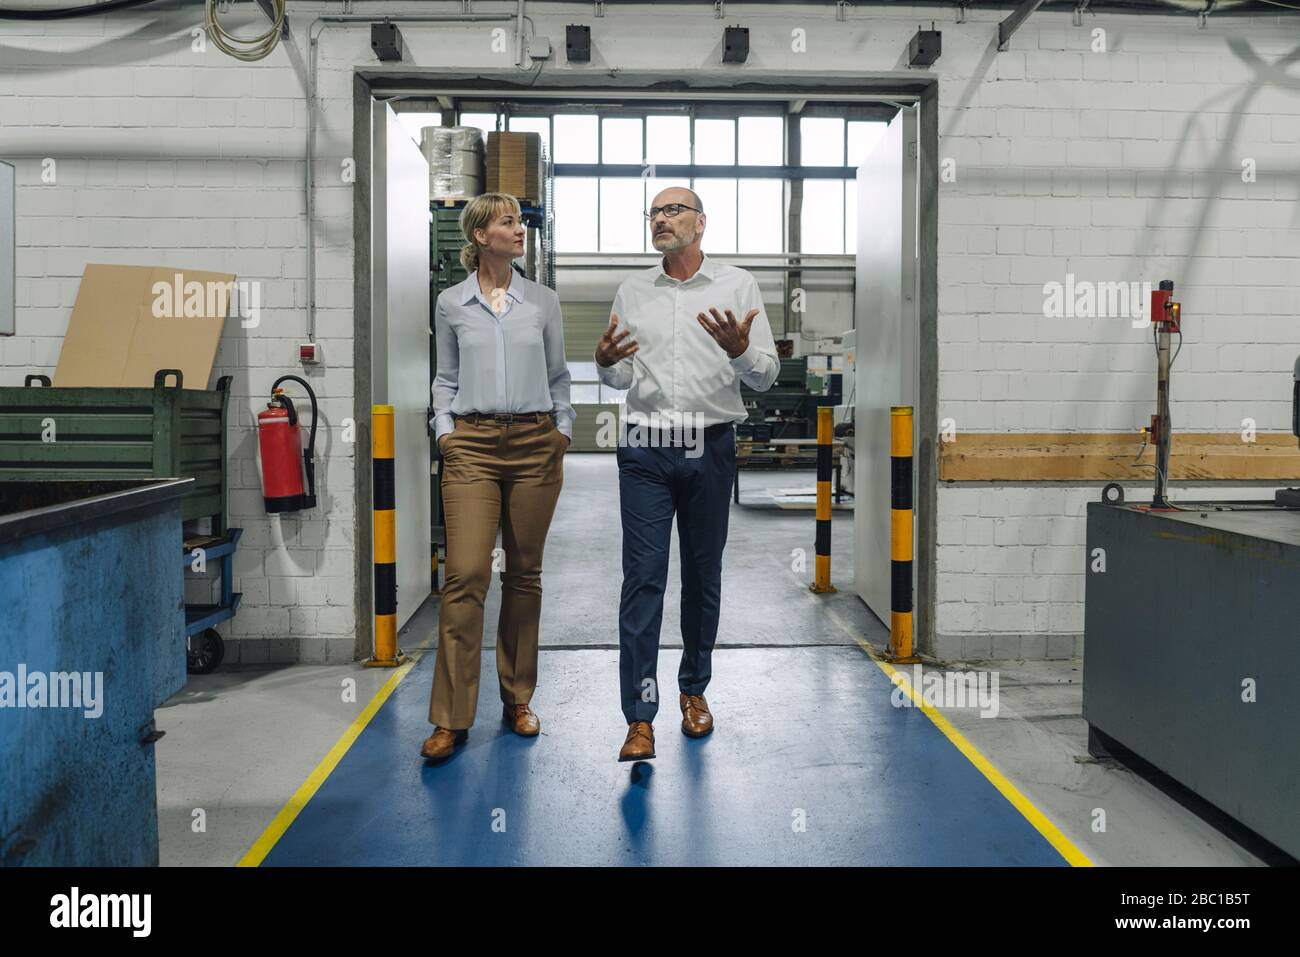person: (598, 186, 778, 765), (423, 198, 573, 755)
